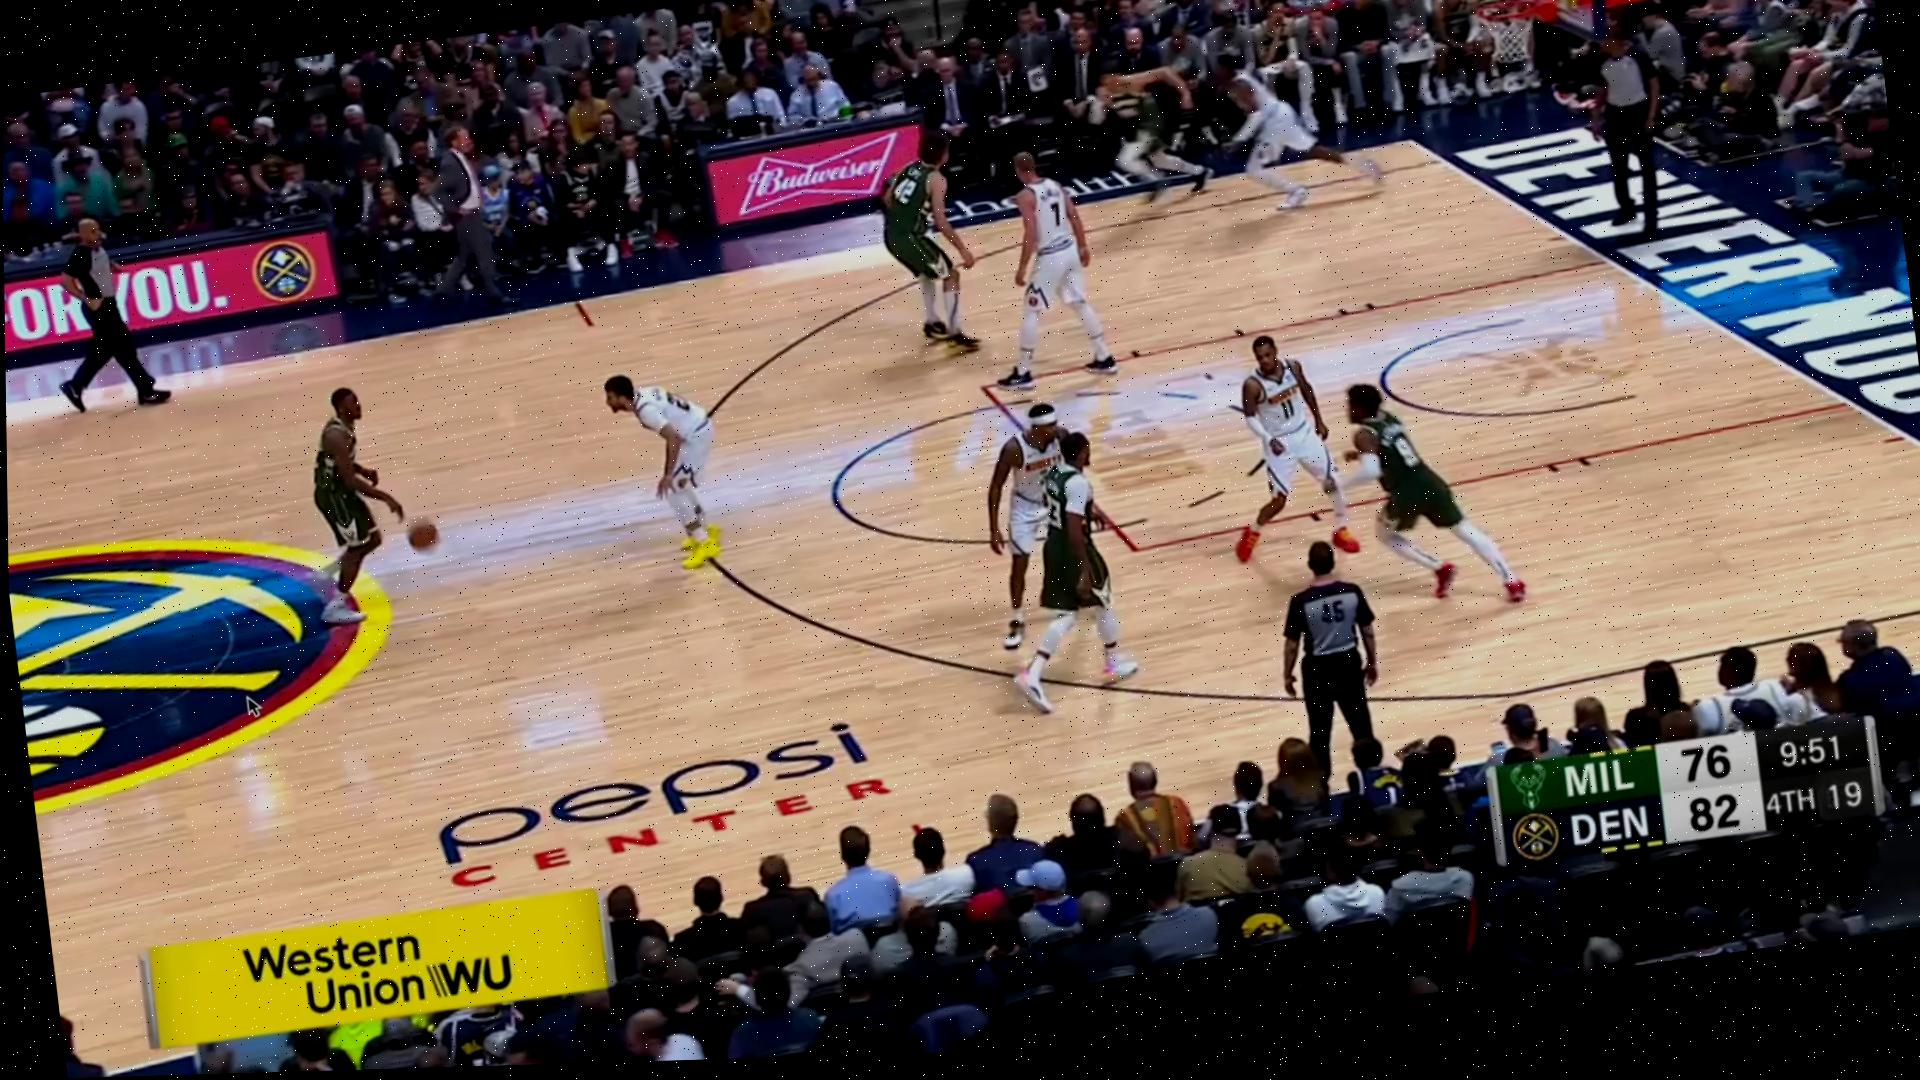no_foul: (967, 377, 1123, 688)
